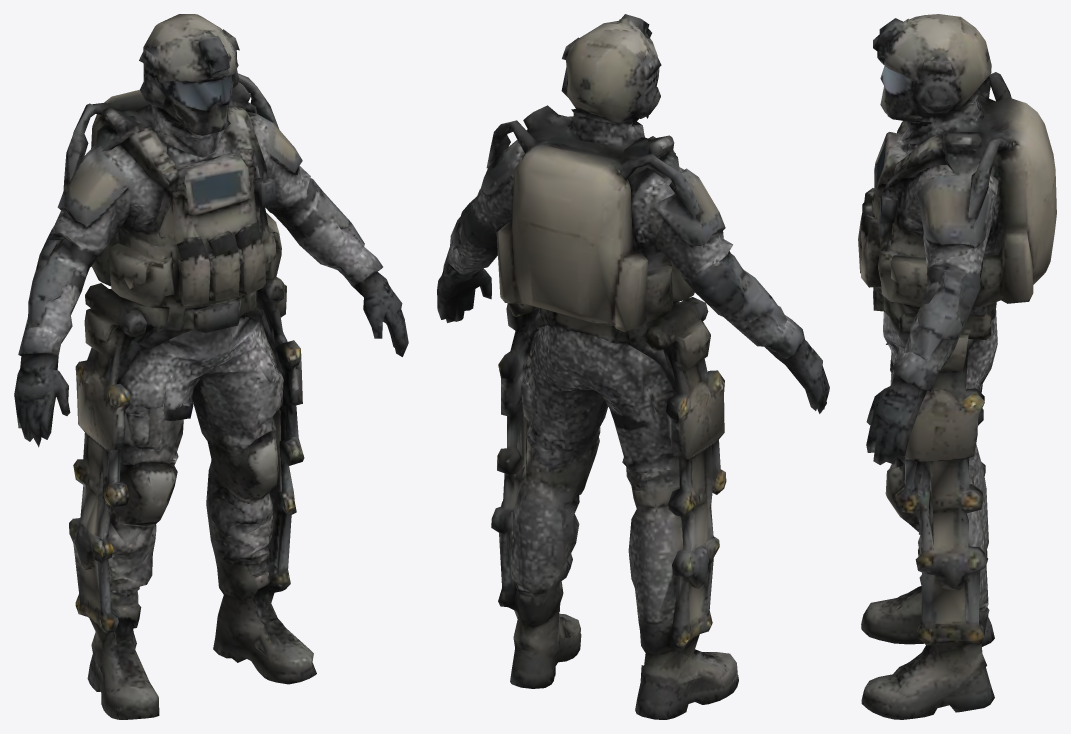
Rendered from soldier_iq_5.glb.
The picture shows the model from 3 angles, left to right: view 1: azimuth 30°, elevation 25°; view 2: azimuth 150°, elevation 25°; view 3: azimuth 270°, elevation 25°; orthographic projection.
Visible parts, largest first — view 1: geometry_0; view 2: geometry_0; view 3: geometry_0.
Part boxes in pixels (x1=…): geometry_0: x1=14, y1=14, x2=408, y2=719; geometry_0: x1=437, y1=14, x2=829, y2=719; geometry_0: x1=858, y1=14, x2=1056, y2=719.
Bounding box in the file's own units: 0.6917 × 1.14 × 0.3126.
Materials: 1 (1 with a texture image).
